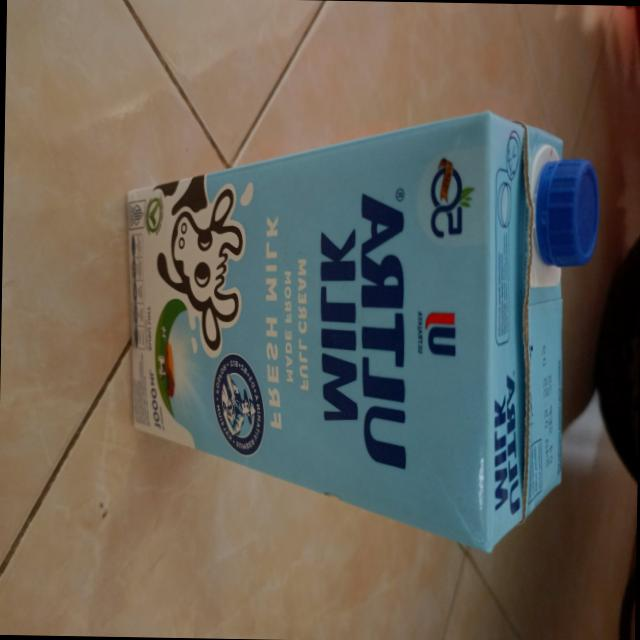ultramilk-full-cream: (118, 102, 600, 554)
